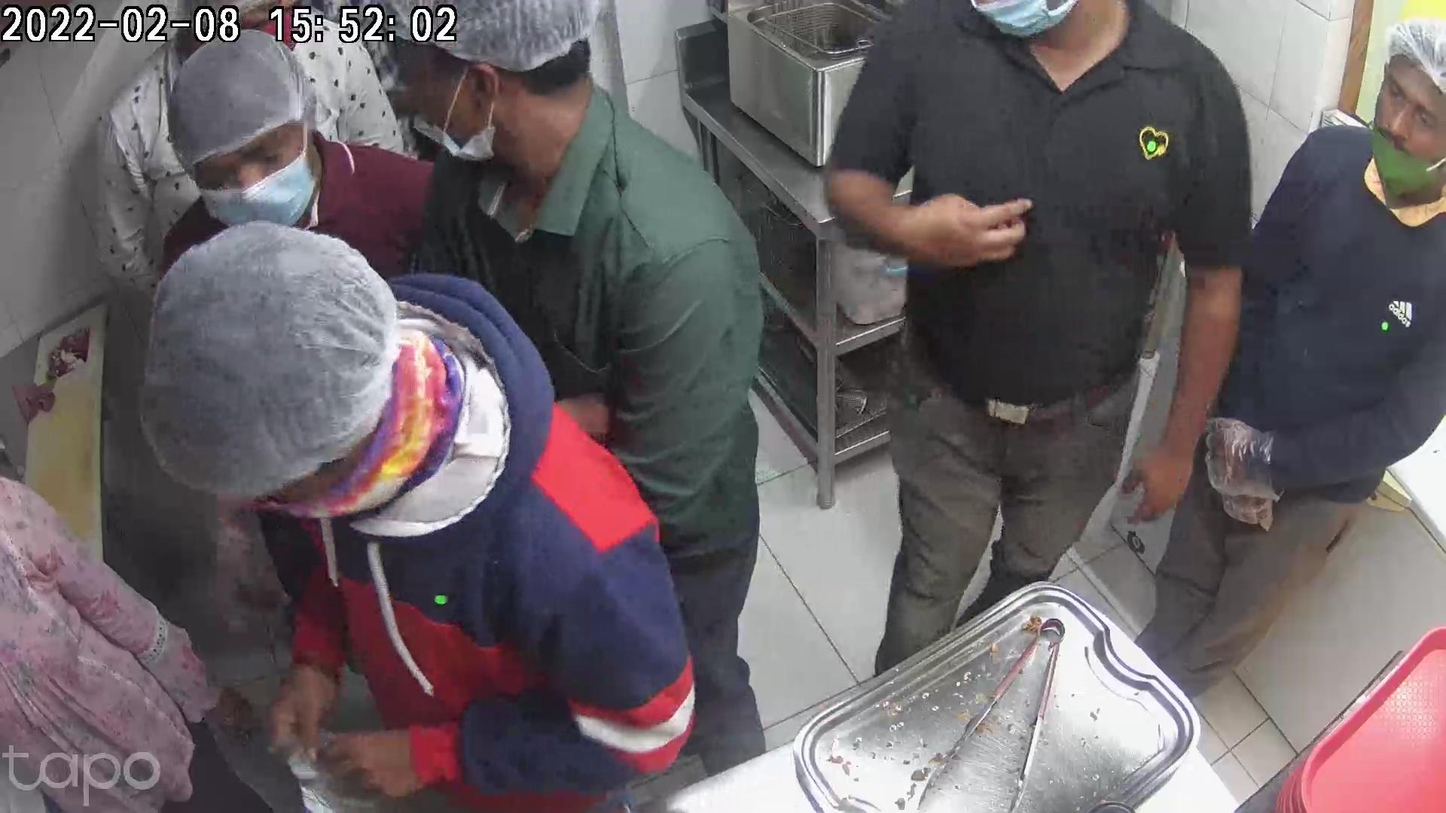no_gloves: (1121, 413, 1204, 522), (897, 203, 1028, 267)
